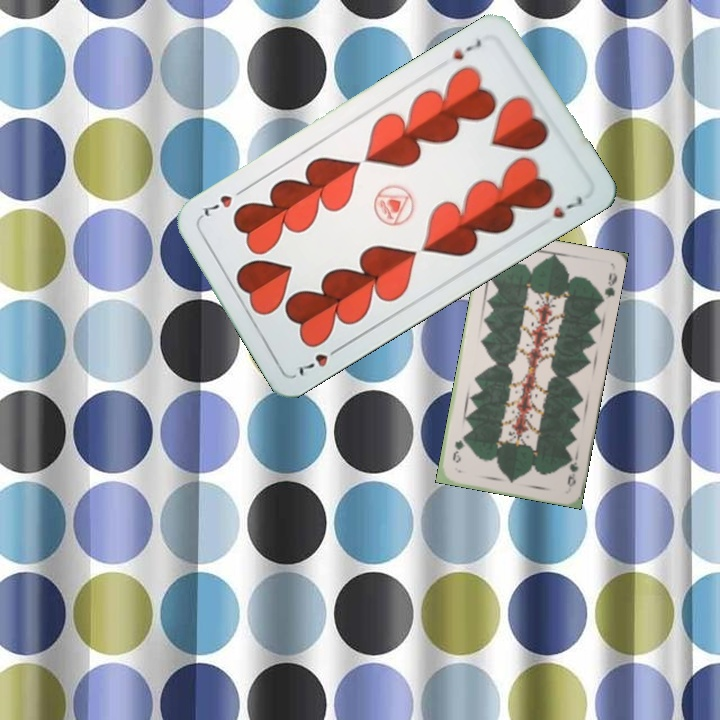G9: (563, 450, 581, 489)
H7: (292, 342, 345, 379), (449, 35, 485, 63)
